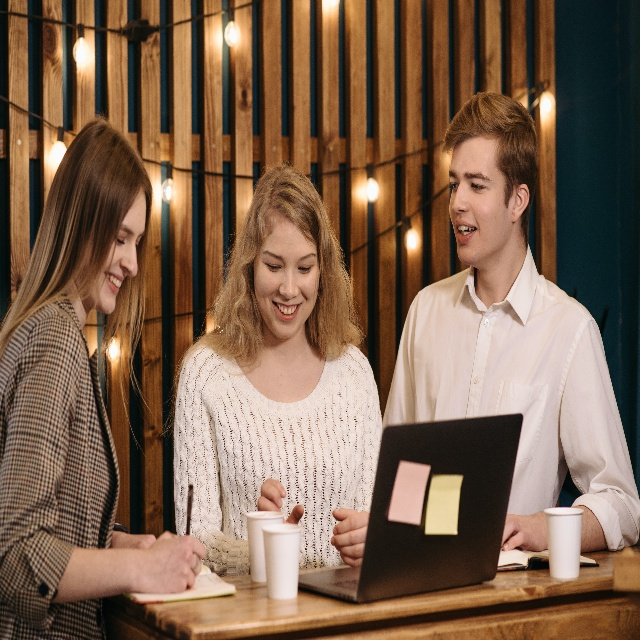Sin_guantes: (144, 530, 207, 595), (330, 506, 370, 567), (256, 478, 304, 524), (501, 512, 547, 552)
